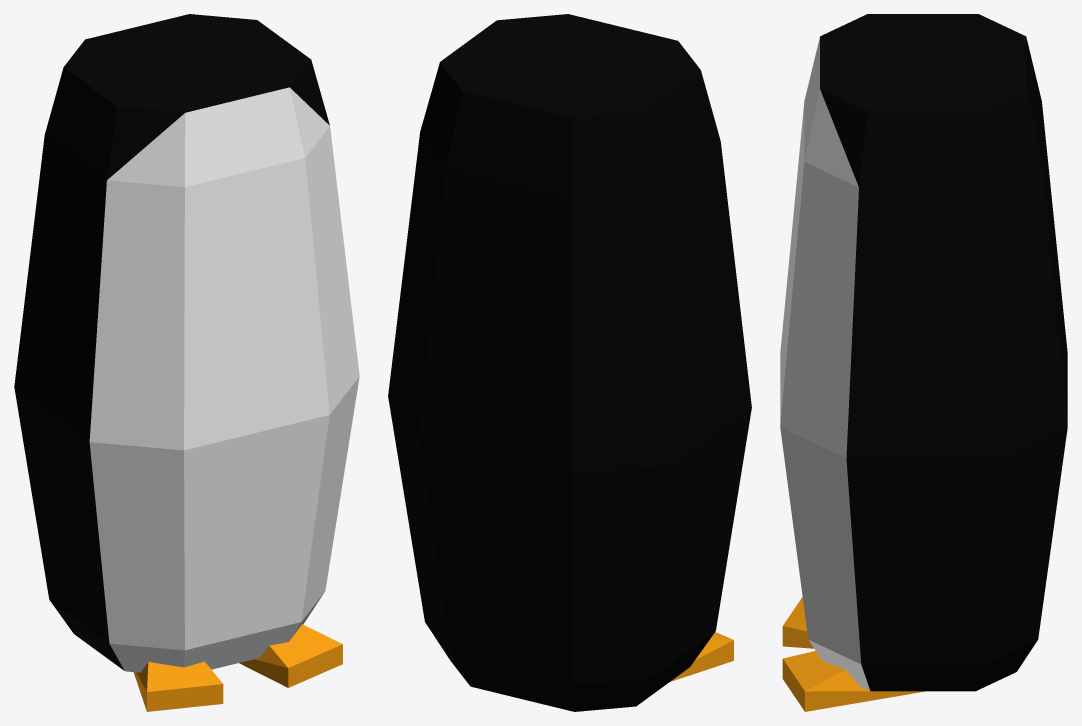
The model's file is penguinBodyFeet.obj.
The picture shows the model from 3 angles, left to right: view 1: azimuth 30°, elevation 25°; view 2: azimuth 150°, elevation 25°; view 3: azimuth 270°, elevation 25°; orthographic projection. The views are drawn at different scales.
Visible parts, largest first — view 1: Body, Right_Foot, Left_Foot; view 2: Body, Right_Foot; view 3: Body, Left_Foot, Right_Foot.
Boxes of the visible parts, x1=… form: Body: x1=14, y1=14, x2=359, y2=672; Right_Foot: x1=133, y1=661, x2=223, y2=711; Left_Foot: x1=239, y1=624, x2=342, y2=687; Body: x1=388, y1=14, x2=751, y2=711; Right_Foot: x1=670, y1=632, x2=733, y2=681; Body: x1=780, y1=14, x2=1067, y2=691; Left_Foot: x1=782, y1=651, x2=925, y2=711; Right_Foot: x1=782, y1=597, x2=813, y2=648.
Bounding box in the file's own units: 0.4708 × 0.9707 × 0.4216.
Materials: 1 (1 with a texture image).
